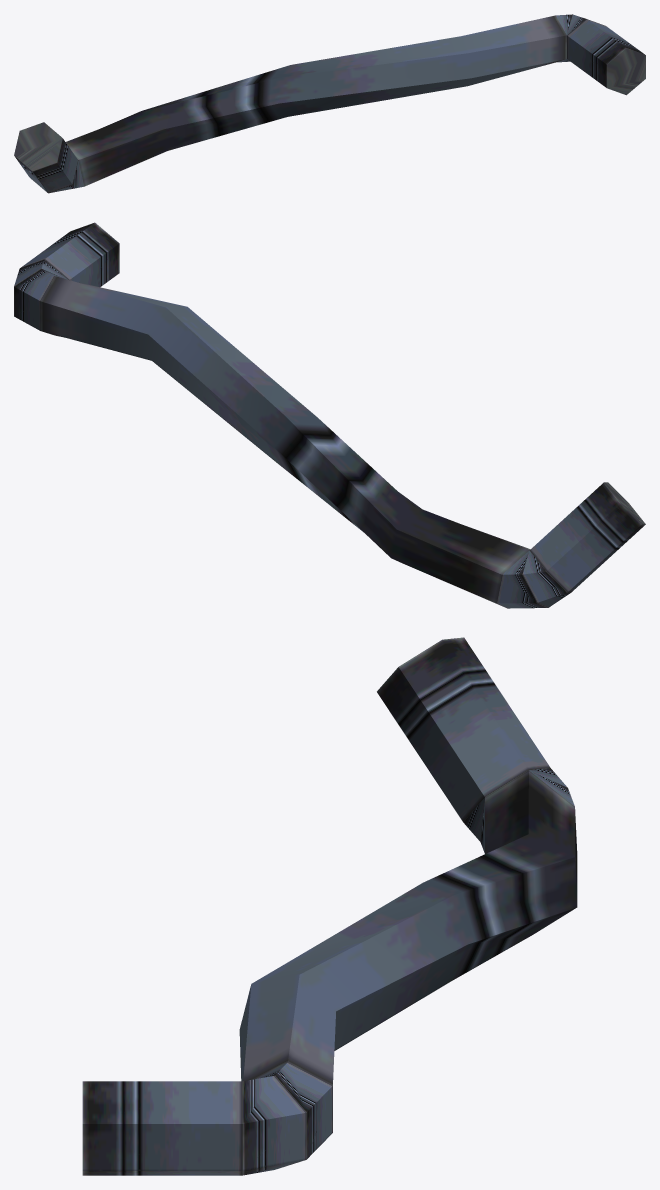
The model's file is pipeBroken2.fbx.
The picture shows the model from 3 angles, top to bottom: view 1: azimuth 30°, elevation 25°; view 2: azimuth 150°, elevation 25°; view 3: azimuth 270°, elevation 25°; orthographic projection. The views are drawn at different scales.
Visible parts, largest first — view 1: pipeBroken2; view 2: pipeBroken2; view 3: pipeBroken2.
Boxes of the visible parts, <box> form: pipeBroken2: <box>14,14,645,193</box>; pipeBroken2: <box>14,222,645,608</box>; pipeBroken2: <box>82,637,577,1175</box>.
Bounding box in the file's own units: 3.17 × 0.6466 × 1.25.
